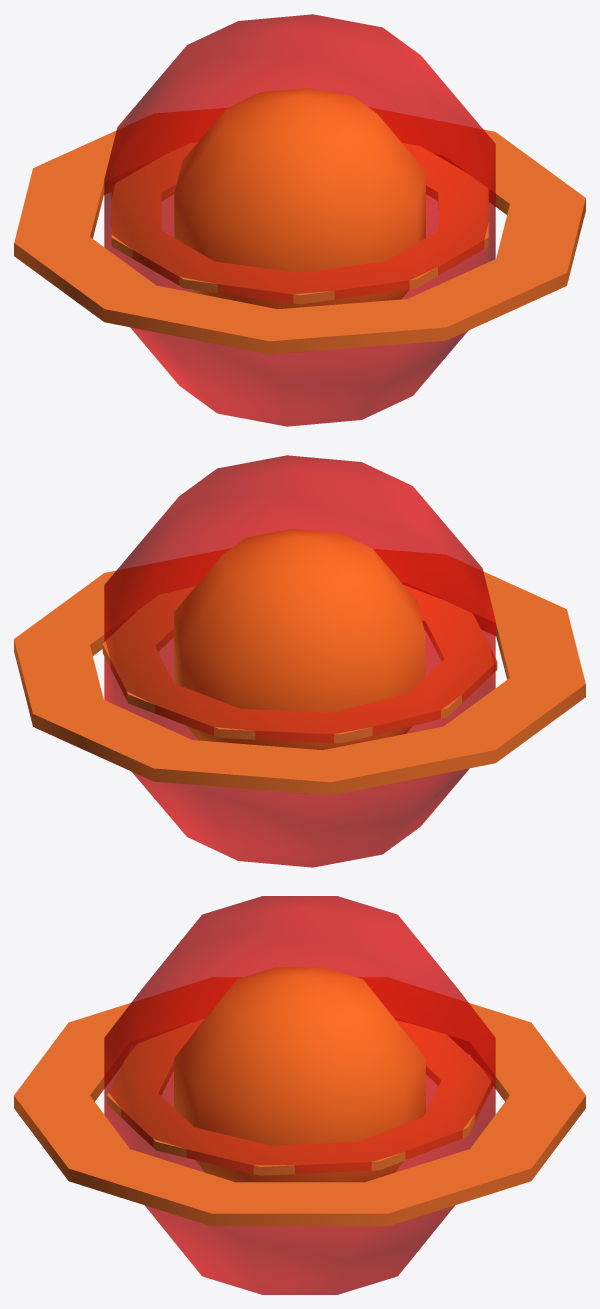
The model's file is Enemy_Attack7.obj.
The picture shows the model from 3 angles, top to bottom: view 1: azimuth 30°, elevation 25°; view 2: azimuth 150°, elevation 25°; view 3: azimuth 270°, elevation 25°; orthographic projection. The views are drawn at different scales.
Visible parts, largest first — view 1: Sphere002, Tube001, Sphere001, Tube002; view 2: Sphere002, Tube001, Sphere001, Tube002; view 3: Sphere002, Tube001, Sphere001, Tube002.
Part boxes in pixels (box(x1,y1,x2,y2)): Sphere002: box(104, 14, 495, 426); Tube001: box(14, 107, 585, 354); Sphere001: box(174, 88, 425, 352); Tube002: box(111, 142, 488, 304); Sphere002: box(104, 455, 495, 867); Tube001: box(14, 548, 585, 795); Sphere001: box(174, 529, 425, 793); Tube002: box(102, 585, 497, 743); Sphere002: box(104, 896, 495, 1294); Tube001: box(14, 977, 585, 1226); Sphere001: box(174, 967, 425, 1182); Tube002: box(107, 1018, 492, 1175).
Size of the model in its own units: 30.19 by 22.83 by 31.73.
